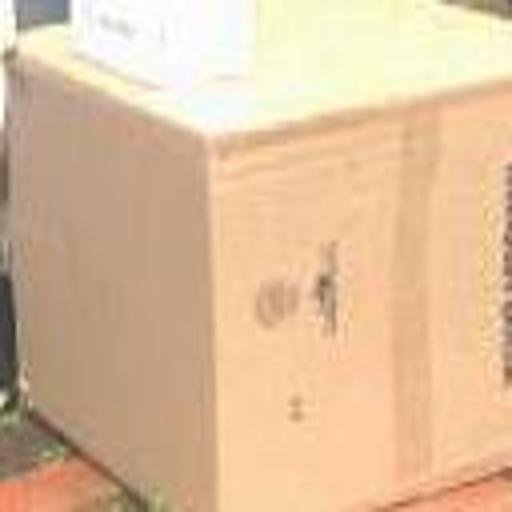Other: (10, 4, 512, 508), (69, 0, 260, 81)
